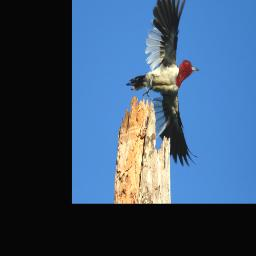Woodpecker: (125, 0, 199, 167)
